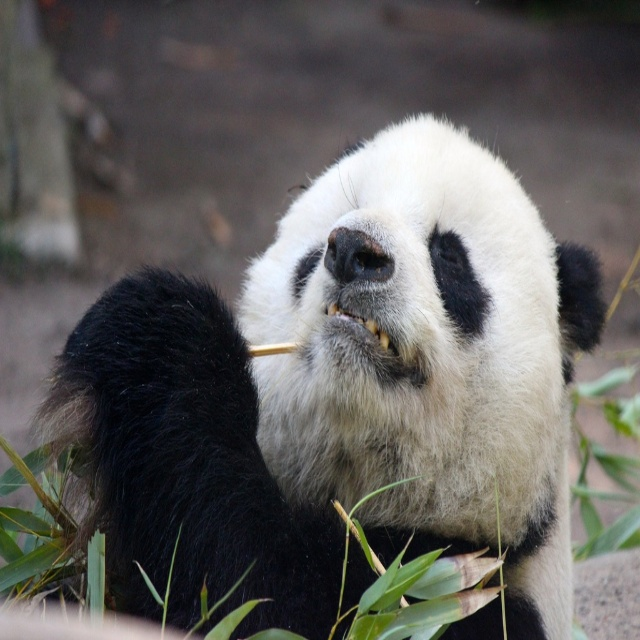Panda: (27, 112, 608, 639)
